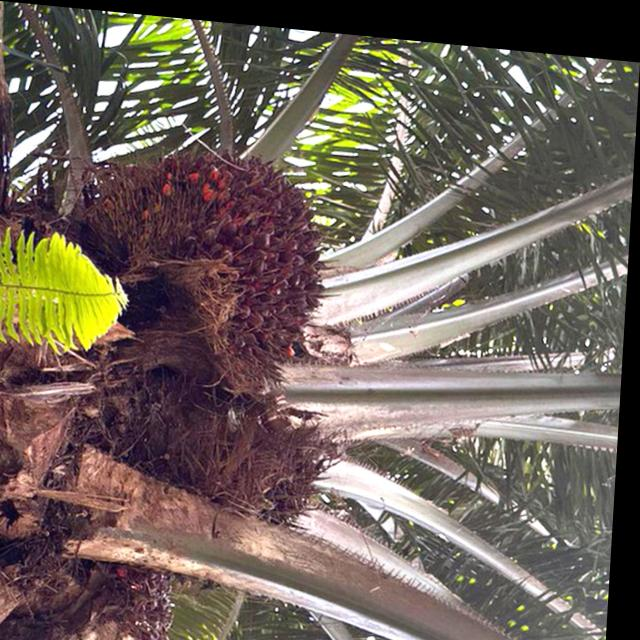ripe: (97, 133, 343, 395), (241, 401, 354, 533), (97, 552, 196, 640)
